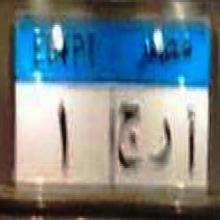1: (57, 101, 69, 167)
alif: (182, 102, 198, 179)
jeem: (116, 103, 140, 168)
raa: (149, 115, 174, 168)
